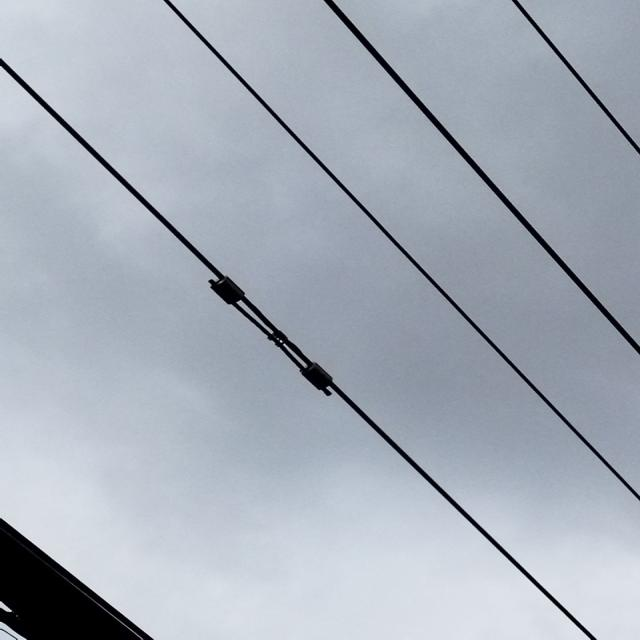wire: (159, 0, 640, 506), (317, 0, 640, 361), (508, 0, 640, 159)
